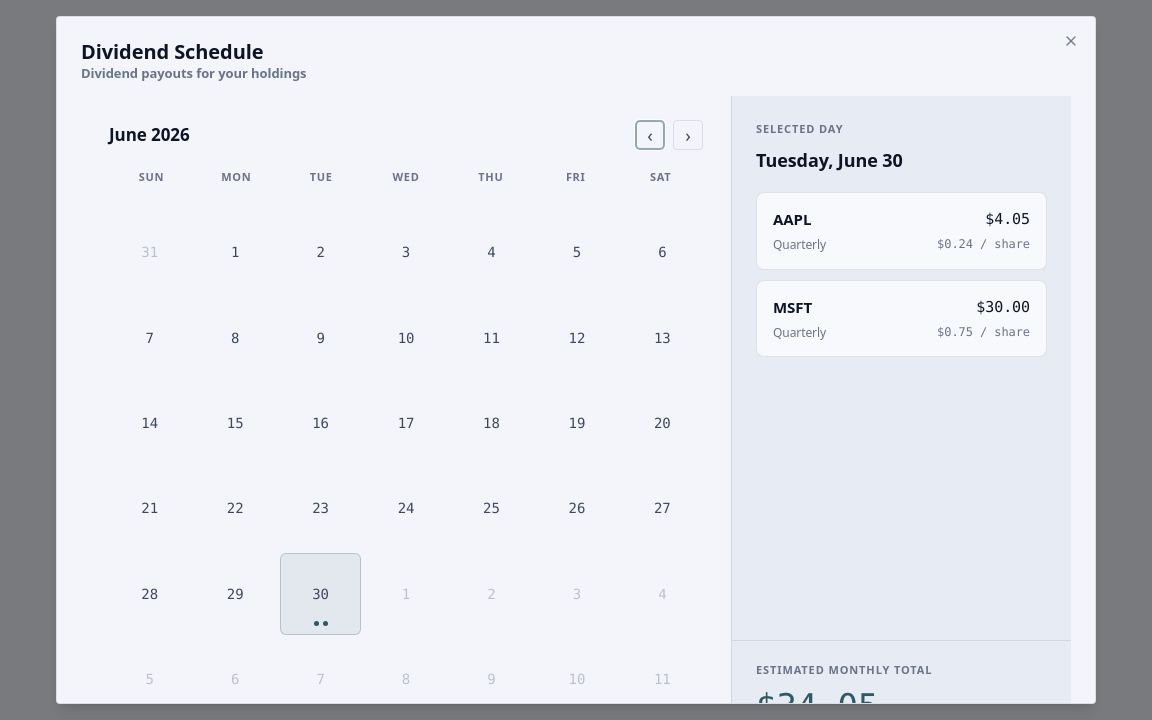
Test: DividendScheduleModal › drops a manually picked day when the month changes
The width and height of the screenshot is (1152, 720).
Click the button "18": (492, 423) [451,382,532,464]
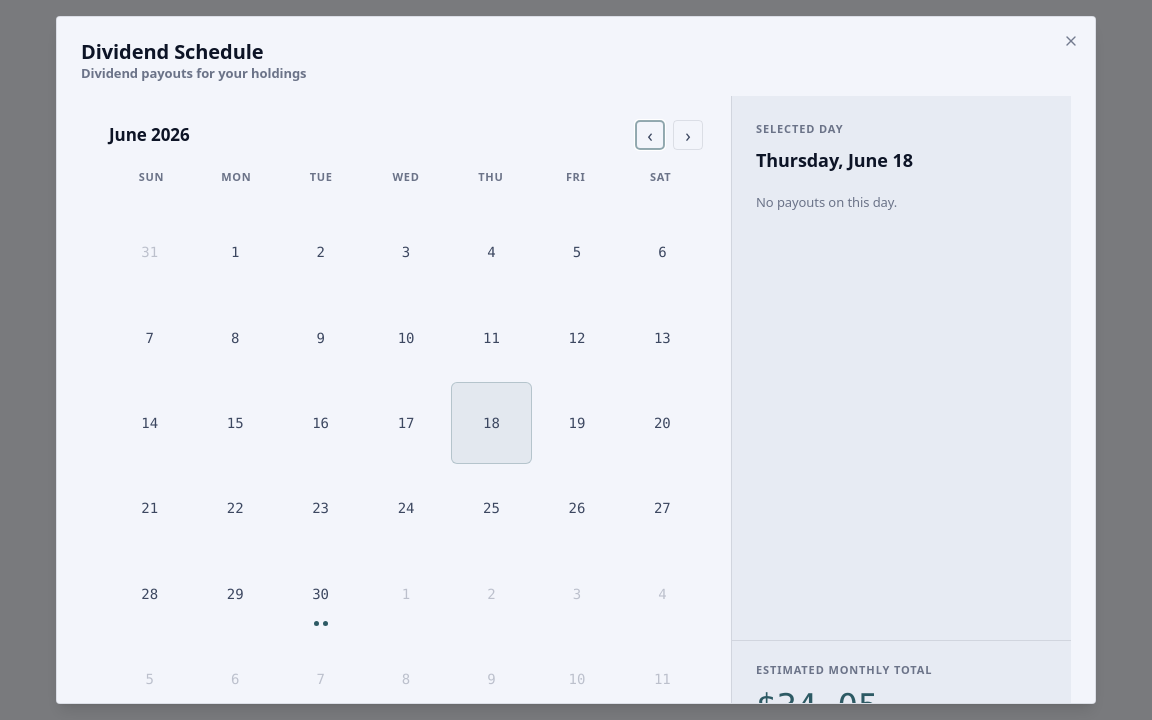
Expected: the heading "Thursday, June 18" is shown, [756,148,913,172]
Expected: the text "No payouts on this day." is shown, [756,193,897,211]
Click the button named "Next month": (688, 135) [673,120,703,150]
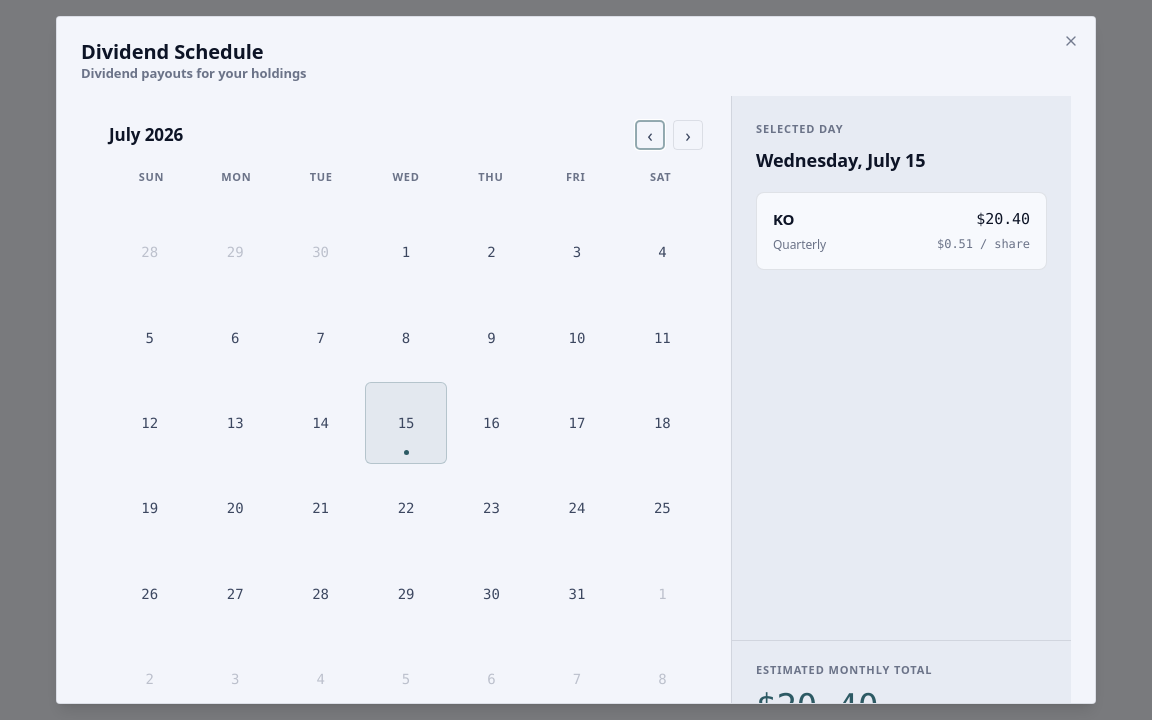
Expected: the heading "Wednesday, July 15" is shown, [756,148,925,172]
Click the button named "Previous month": (650, 135) [635,120,665,150]
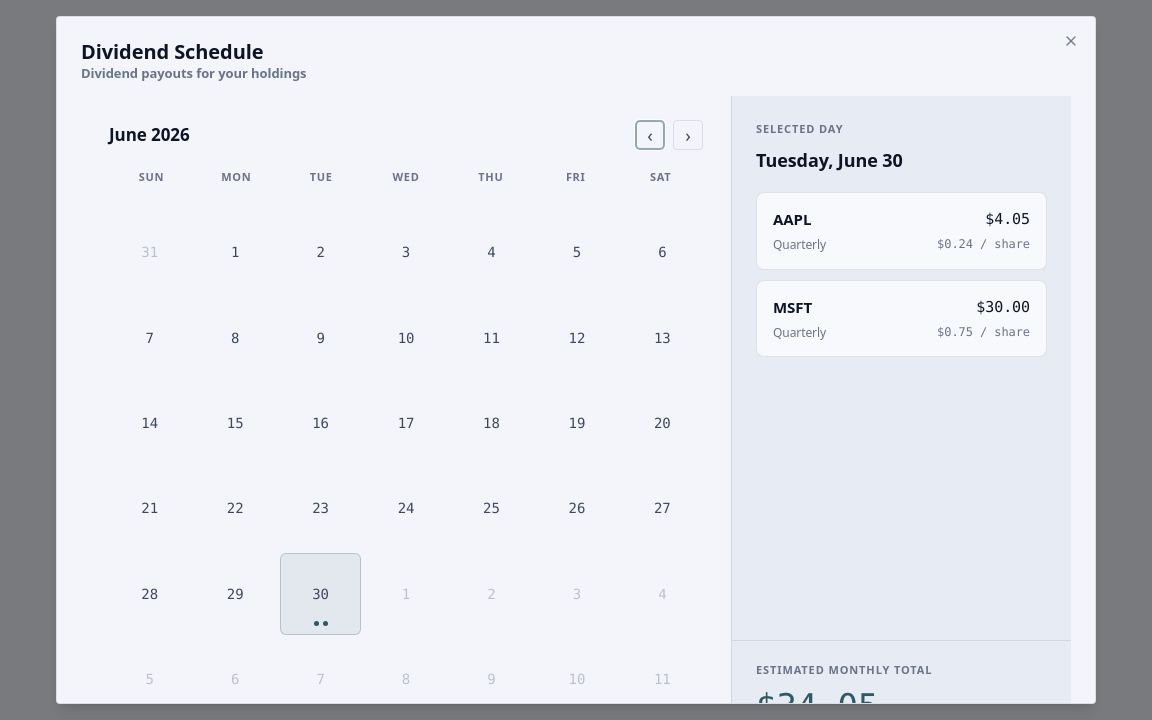
Expected: the heading "Tuesday, June 30" is shown, [756,148,903,172]
